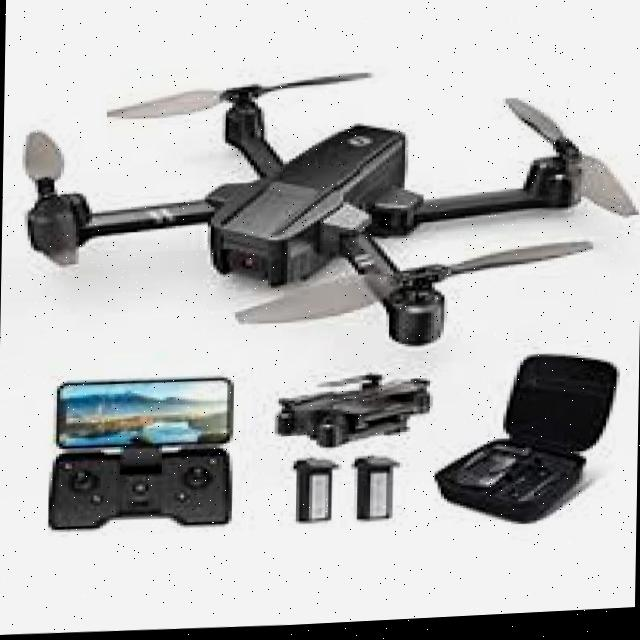drone: (0, 31, 640, 372)
